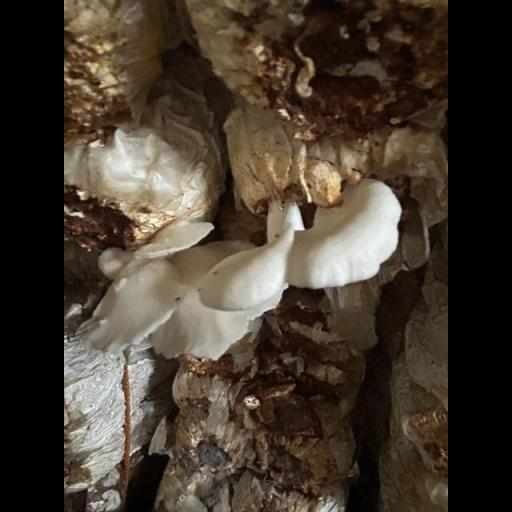White Oyster Mushroom: (85, 182, 399, 361)
